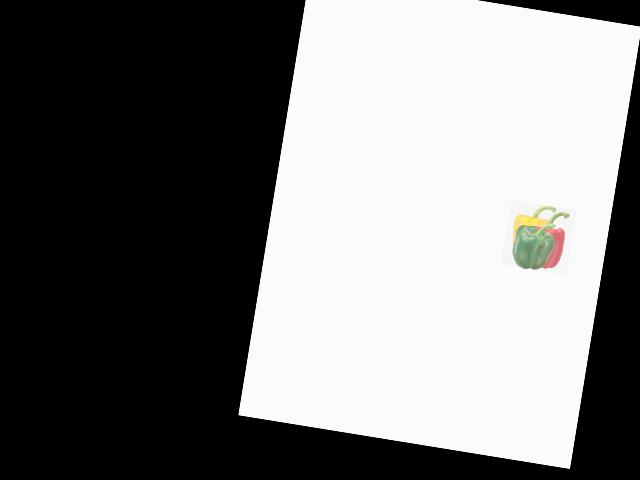bell_pepper: (529, 206, 576, 273)
